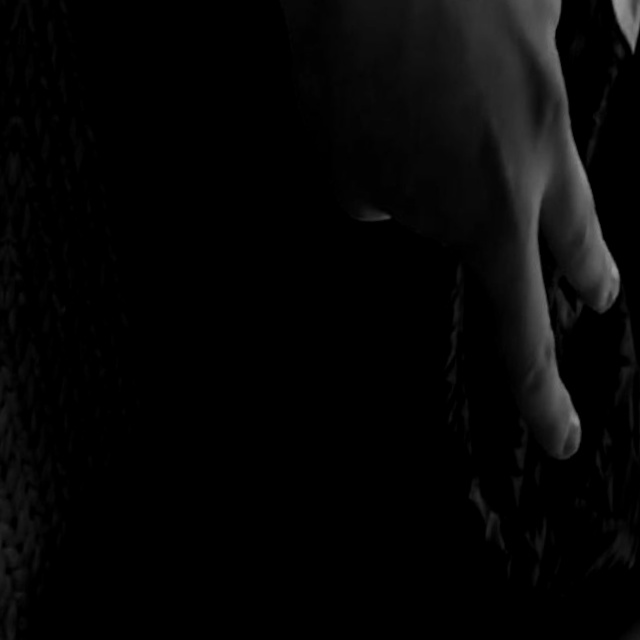Scissors: (258, 0, 640, 464)
